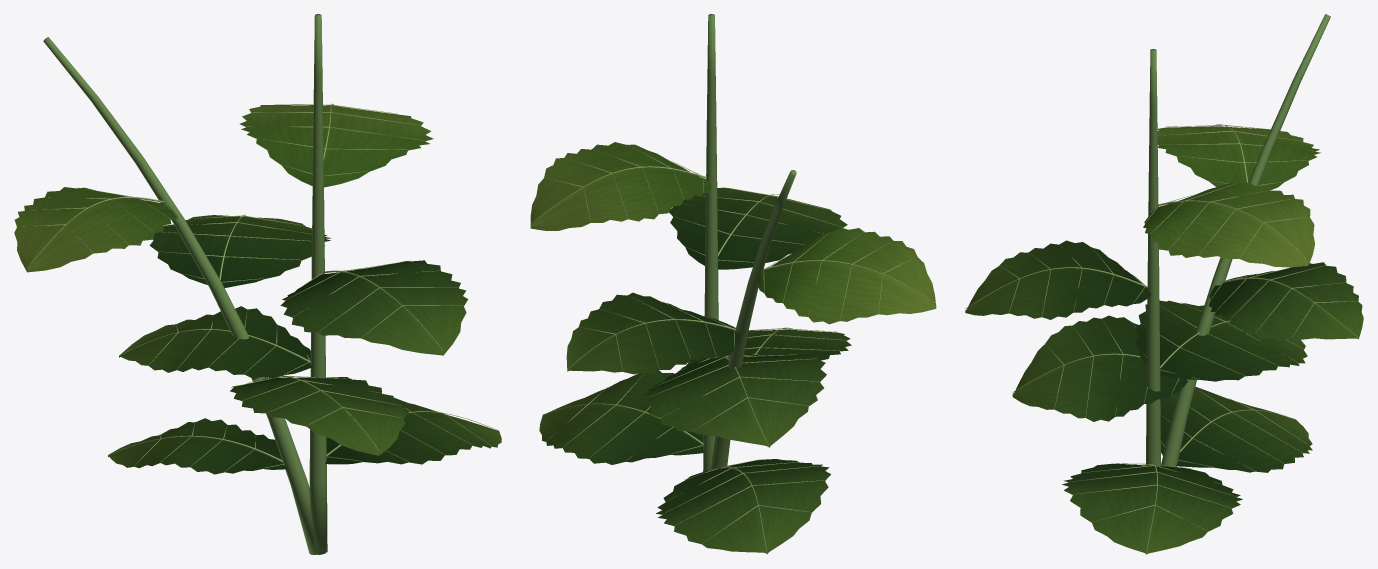
The model's file is hydrangea-05.glb.
3 renders of one model, left to right at view 1: azimuth 30°, elevation 25°; view 2: azimuth 150°, elevation 25°; view 3: azimuth 270°, elevation 25°, orthographic. The views are drawn at different scales.
Parts seen in each view (by area): view 1: hydrangea_stage_05_leaf_veins.008, hydrangea_stage_05_young_leaf.008, hydrangea_stage_05_stem_fibres.008, hydrangea_stage_05_raised_midveins.008; view 2: hydrangea_stage_05_leaf_veins.008, hydrangea_stage_05_young_leaf.008, hydrangea_stage_05_stem_fibres.008, hydrangea_stage_05_raised_midveins.008; view 3: hydrangea_stage_05_leaf_veins.008, hydrangea_stage_05_young_leaf.008, hydrangea_stage_05_stem_fibres.008, hydrangea_stage_05_raised_midveins.008.
Part boxes in pixels (x1,y1,x2,y2): hydrangea_stage_05_leaf_veins.008: [108, 215, 501, 474]; hydrangea_stage_05_young_leaf.008: [14, 105, 433, 272]; hydrangea_stage_05_stem_fibres.008: [43, 14, 327, 554]; hydrangea_stage_05_raised_midveins.008: [17, 103, 498, 471]; hydrangea_stage_05_leaf_veins.008: [539, 188, 851, 554]; hydrangea_stage_05_young_leaf.008: [530, 142, 936, 324]; hydrangea_stage_05_stem_fibres.008: [703, 14, 796, 471]; hydrangea_stage_05_raised_midveins.008: [530, 144, 936, 552]; hydrangea_stage_05_leaf_veins.008: [965, 240, 1363, 554]; hydrangea_stage_05_young_leaf.008: [1143, 126, 1320, 267]; hydrangea_stage_05_stem_fibres.008: [1146, 14, 1330, 466]; hydrangea_stage_05_raised_midveins.008: [965, 124, 1358, 553].
Bounding box in the file's own units: 0.2178 × 0.2553 × 0.1849.
Materials: 4 (2 with a texture image).
